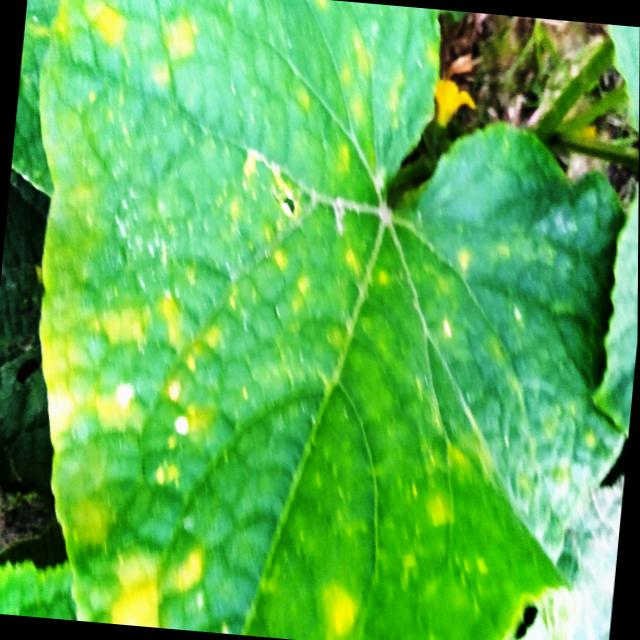Downy-Mildew: (11, 0, 627, 640)
